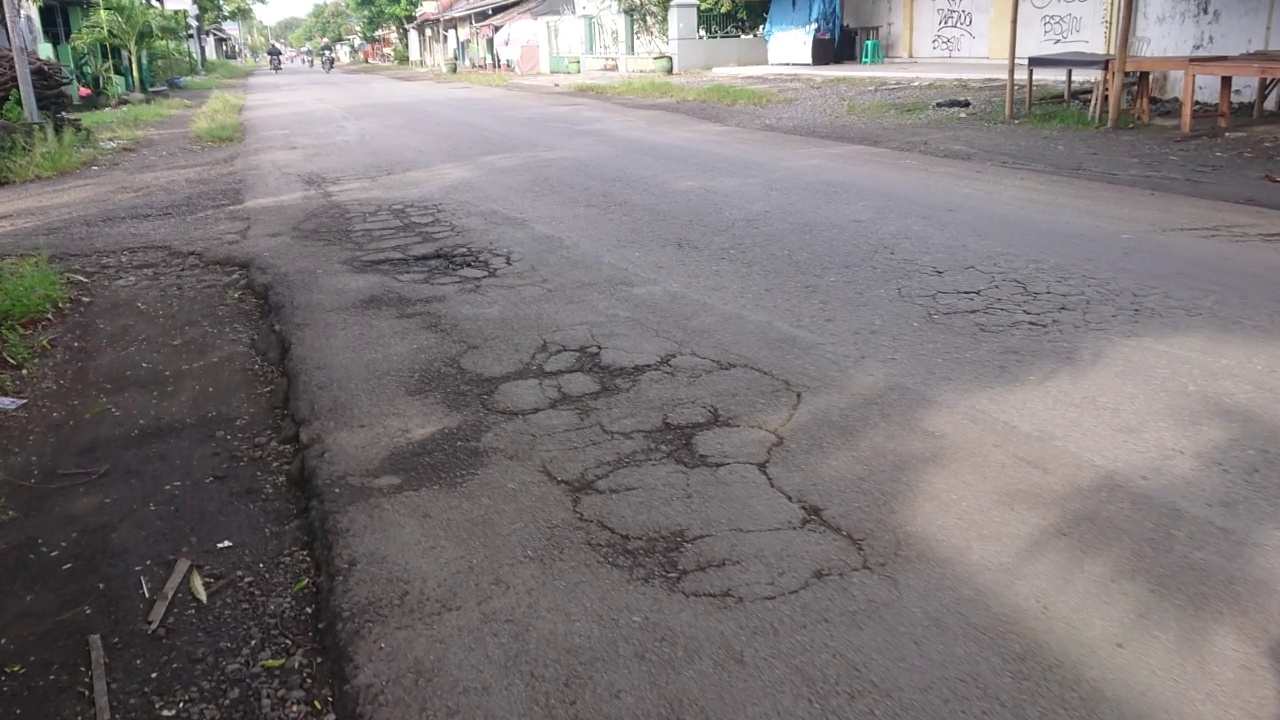Retak: (493, 336, 848, 613), (339, 197, 513, 312), (896, 253, 1107, 342)
